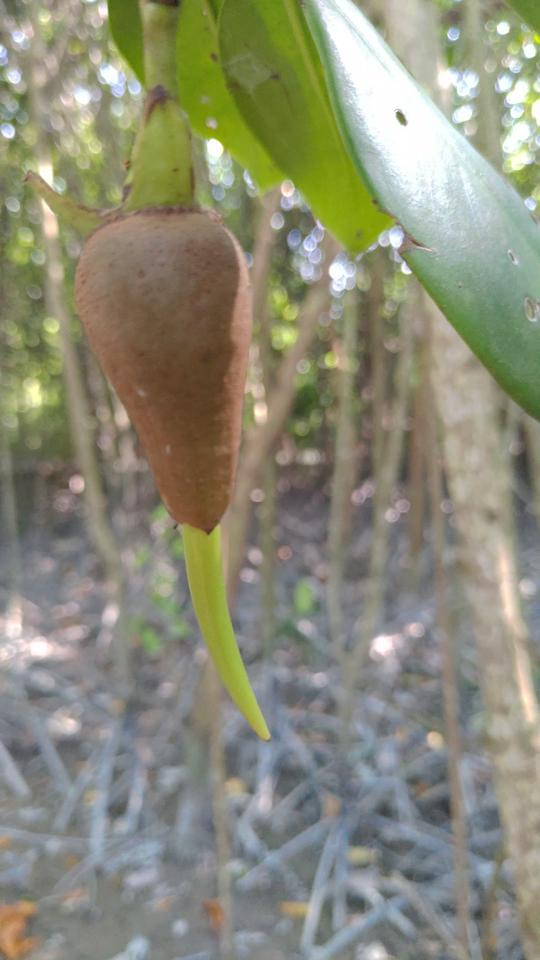mentah: (17, 66, 294, 753)
